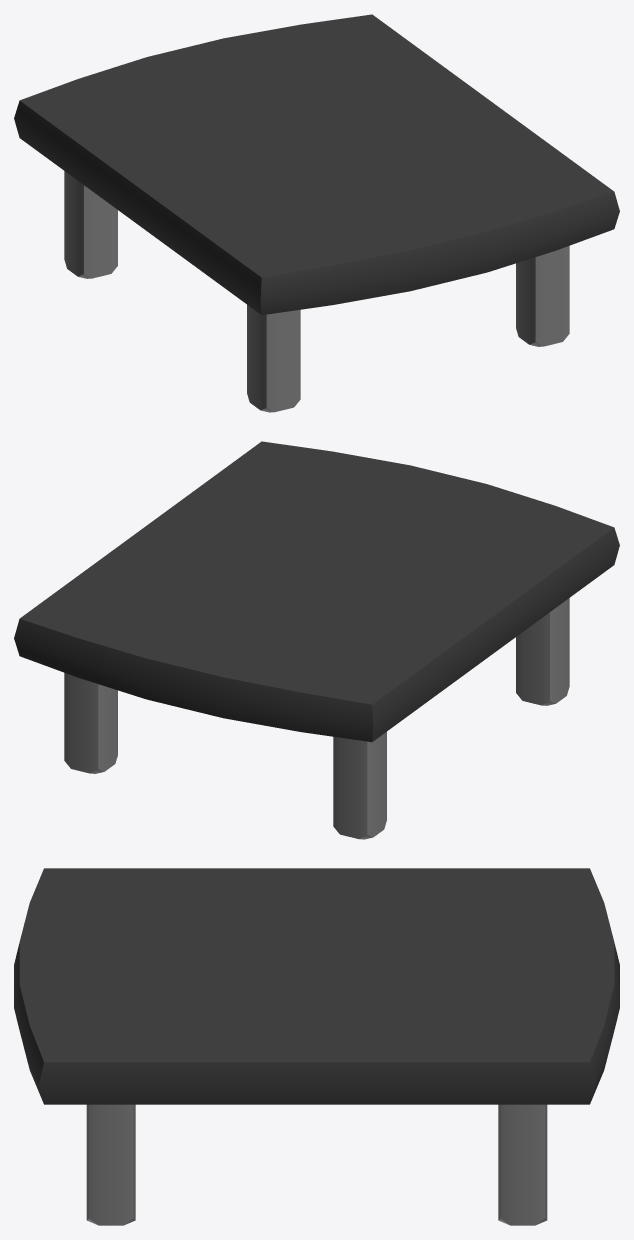
File: Mesh_table_TL.fbx
3 renders of one model, top to bottom at view 1: azimuth 30°, elevation 25°; view 2: azimuth 150°, elevation 25°; view 3: azimuth 270°, elevation 25°, orthographic. The views are drawn at different scales.
Parts seen in each view (by area): view 1: Mesh_table_TL; view 2: Mesh_table_TL; view 3: Mesh_table_TL.
Part boxes in pixels (x1,y1,x2,y2): Mesh_table_TL: [14, 14, 619, 412]; Mesh_table_TL: [14, 441, 619, 839]; Mesh_table_TL: [14, 868, 619, 1225].
Size of the model in its own units: 227 by 97.85 by 294.
